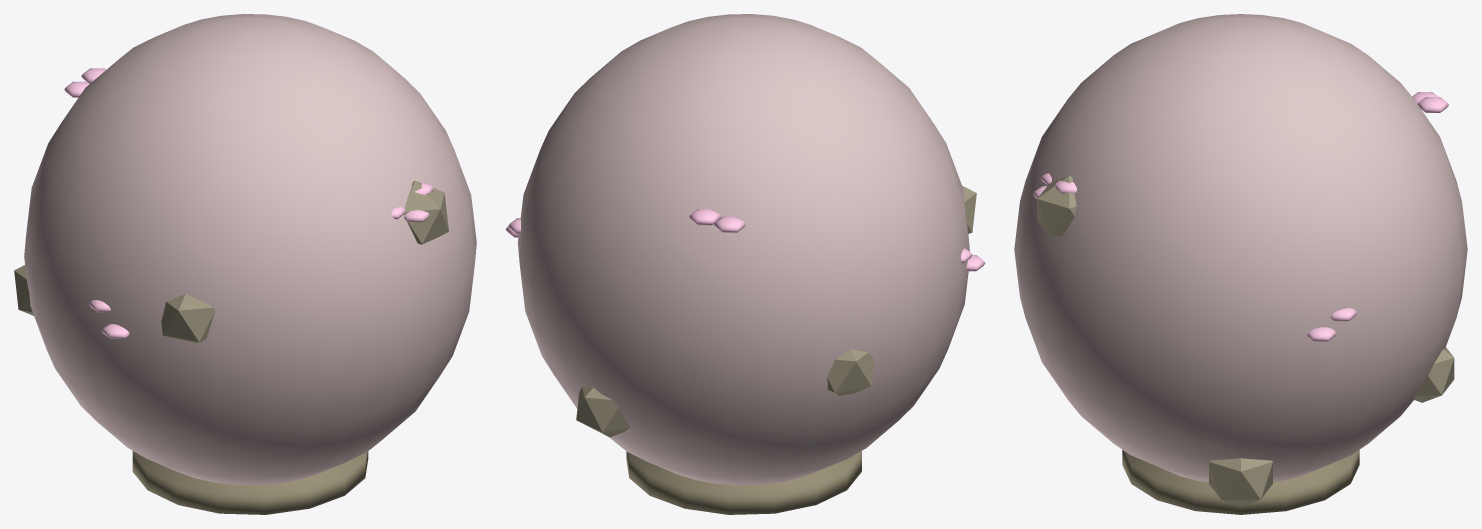
The model's file is egg_blossom_08.glb.
3 views of the same model, side by side, from view 1: azimuth 30°, elevation 25°; view 2: azimuth 150°, elevation 25°; view 3: azimuth 270°, elevation 25° (orthographic).
Parts seen in each view (by area): view 1: ball; view 2: ball; view 3: ball.
Part boxes in pixels (bbox=[...]): ball: bbox=[14, 14, 476, 514]; ball: bbox=[505, 14, 985, 514]; ball: bbox=[1014, 14, 1467, 514].
Bounding box in the file's own units: 0.84 × 0.88 × 0.84.
